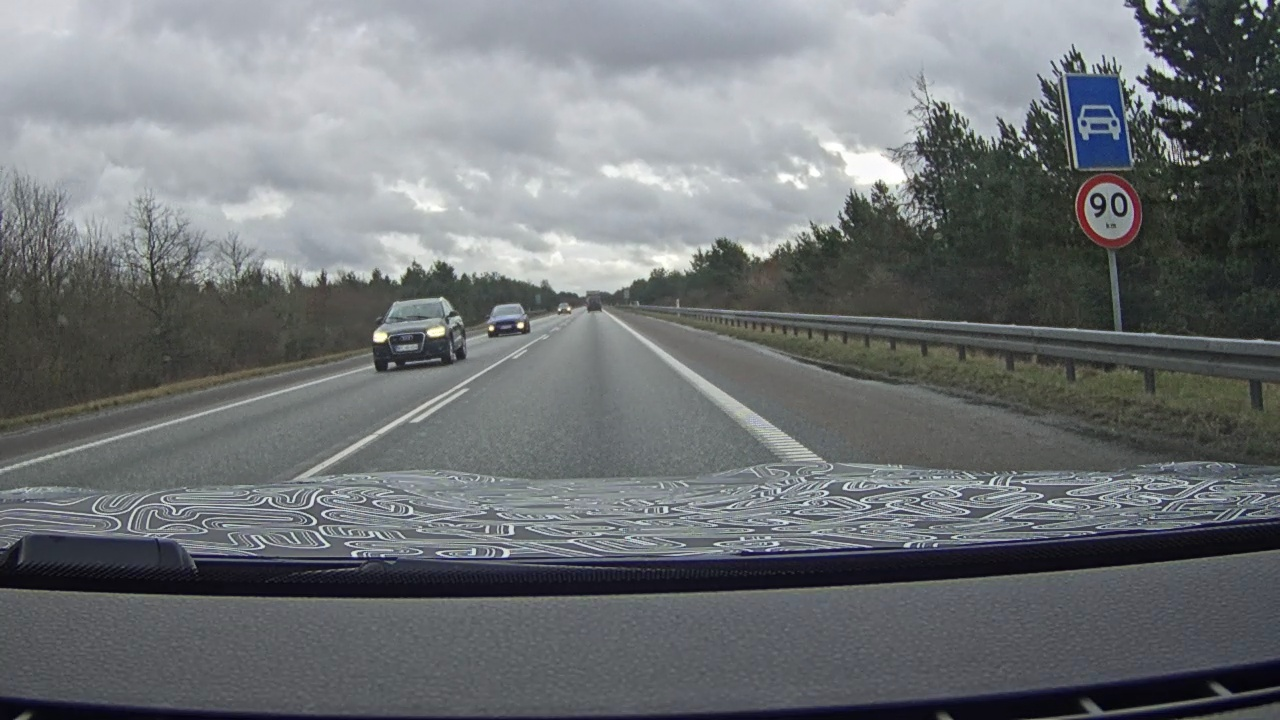Expressway_Begin: (1057, 70, 1133, 174)
